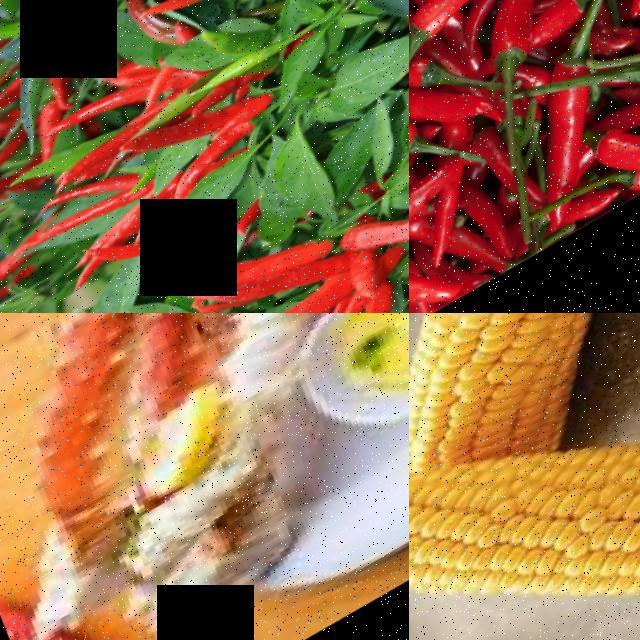chilli: (502, 50, 640, 217), (124, 84, 268, 189), (24, 155, 156, 251), (21, 183, 158, 274), (44, 72, 172, 165), (465, 0, 575, 98), (409, 0, 554, 54), (340, 193, 409, 299), (409, 172, 467, 281), (0, 0, 84, 48), (409, 74, 442, 193)
corn: (409, 326, 640, 640), (409, 313, 640, 502)
crab: (0, 313, 235, 551)
